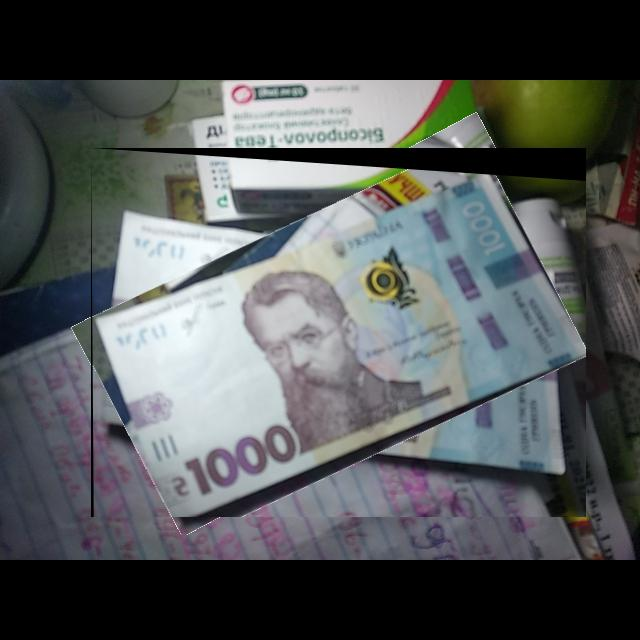1000uah: (93, 169, 587, 518)
